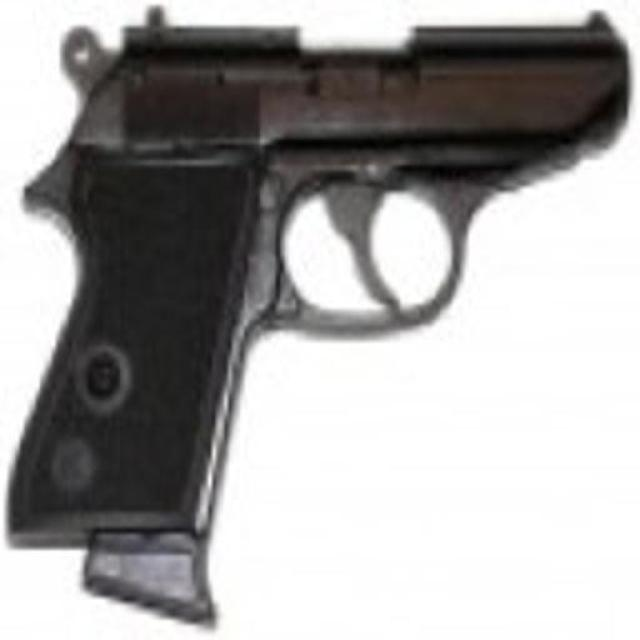pistol: (31, 5, 615, 575)
